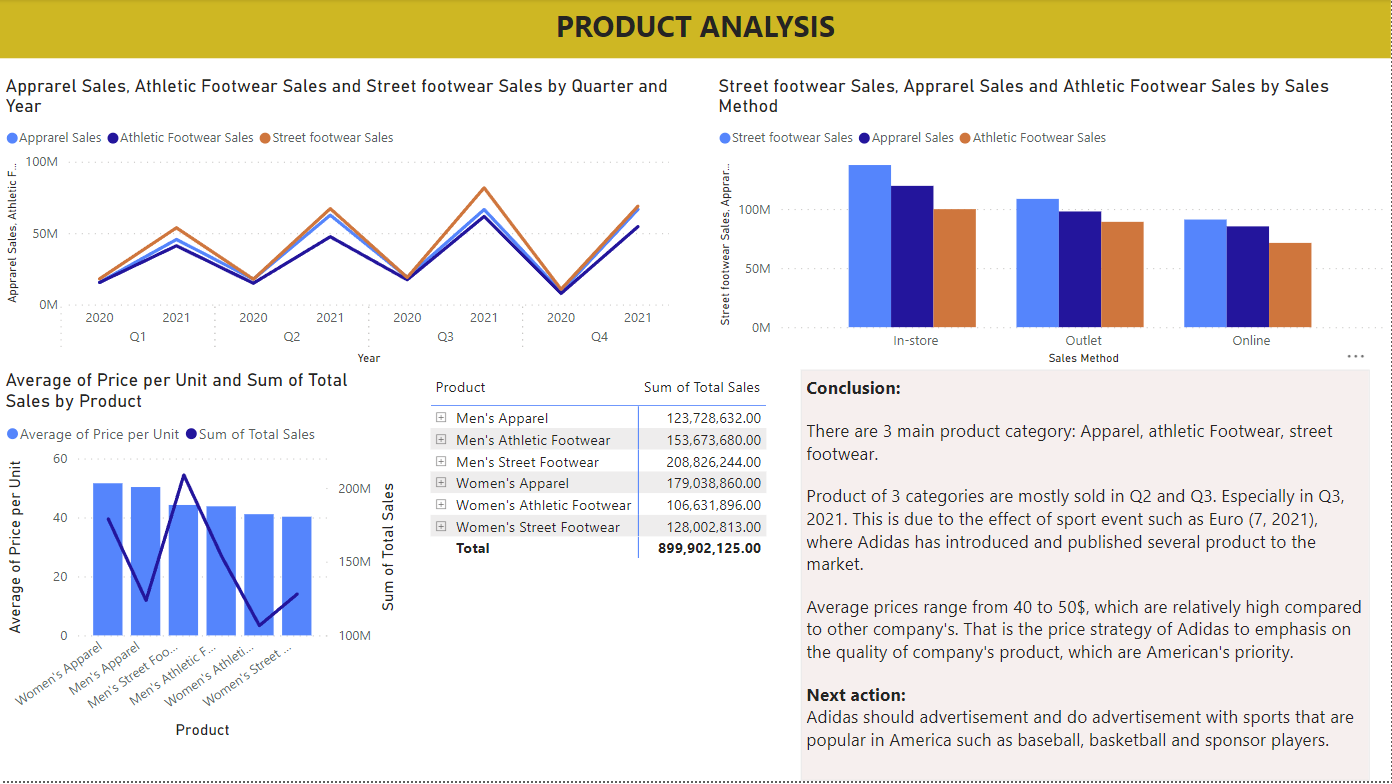

The dashboard page shown, as its layout file describes it:
{"tool":"powerbi","page":{"name":"PRODUCT ANALYSIS","canvas":[1280,720],"ordinal":1},"visuals":[{"type":"lineChart","fields":{"Y":["Table.Apprarel Sales","Table.Athletic Footwear Sales","Table.Street footwear Sales"],"Category":["Date table.Quarter","Date table.Year"]},"box":[0,70,620,271.4],"z":0},{"type":"clusteredColumnChart","fields":{"Category":["Data Sales Adidas.Sales Method"],"Y":["Table.Street footwear Sales","Table.Apprarel Sales","Table.Athletic Footwear Sales"]},"box":[656.2,70,623.8,271.2],"z":1000},{"type":"textbox","box":[0,0,1280,54.3],"z":2000},{"type":"lineClusteredColumnComboChart","fields":{"Category":["Data Sales Adidas.Product"],"Y":["Avg(Data Sales Adidas.Price per Unit)"],"Y2":["Sum(Data Sales Adidas.Total Sales)"]},"box":[0,341.3,368.3,343.7],"z":3000},{"type":"textbox","box":[737.1,341.4,522.9,378.6],"z":4000},{"type":"pivotTable","fields":{"Rows":["Data Sales Adidas.Product","Data Sales Adidas.Region"],"Values":["Sum(Data Sales Adidas.Total Sales)"]},"box":[391.3,341.3,327,181.7],"z":5000}]}

Visuals, with their boxes in screenshot pixels (x1, y1, x2, y2), scaled from the page's 1280x720 canvas onto the 1392x784 screenshot:
lineChart - Table.Apprarel Sales x Table.Athletic Footwear Sales: x1=0 y1=76 x2=674 y2=372
clusteredColumnChart - Data Sales Adidas.Sales Method x Table.Street footwear Sales: x1=714 y1=76 x2=1391 y2=372
textbox: x1=0 y1=0 x2=1391 y2=59
lineClusteredColumnComboChart - Data Sales Adidas.Product x Avg(Data Sales Adidas.Price per Unit): x1=0 y1=372 x2=401 y2=746
textbox: x1=802 y1=372 x2=1370 y2=783
pivotTable - Data Sales Adidas.Product x Data Sales Adidas.Region: x1=426 y1=372 x2=781 y2=569
